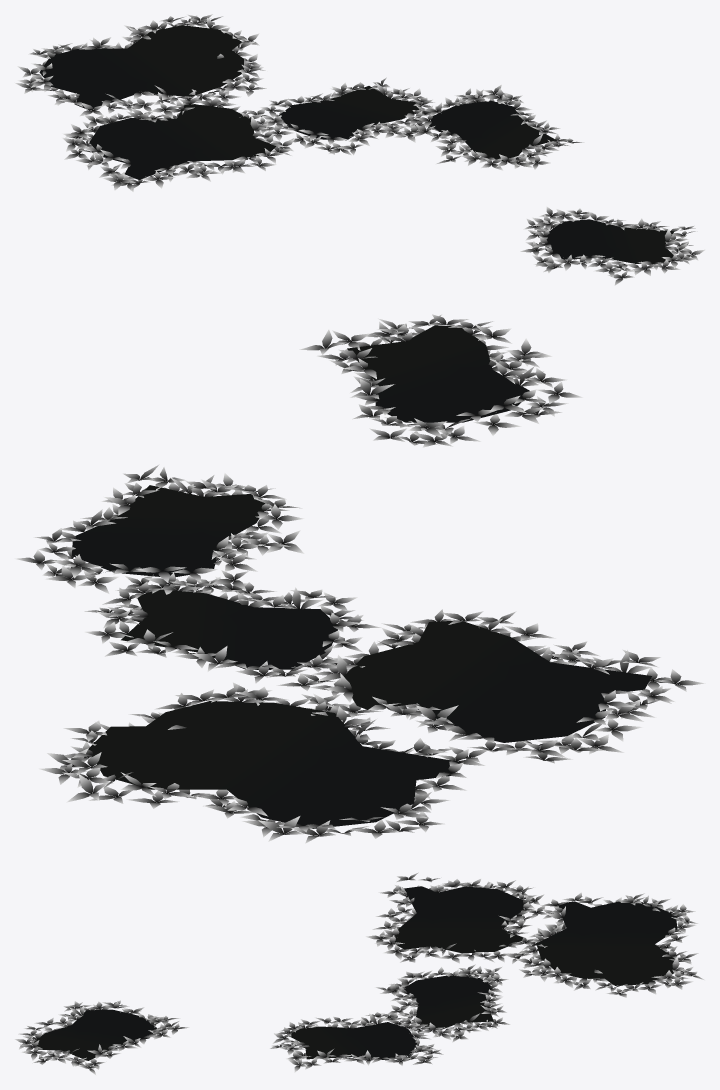
The model's file is SM_ENV_KNFRST_LeafShadow_GroupE.FBX.
3 renders of one model, top to bottom at view 1: azimuth 30°, elevation 25°; view 2: azimuth 150°, elevation 25°; view 3: azimuth 270°, elevation 25°, orthographic. The views are drawn at different scales.
Parts seen in each view (by area): view 1: SM_ENV_KNFRST_LeafShadow_GroupE; view 2: SM_ENV_KNFRST_LeafShadow_GroupE; view 3: SM_ENV_KNFRST_LeafShadow_GroupE.
Boxes of the visible parts, x1,y1,x2,y2 form: SM_ENV_KNFRST_LeafShadow_GroupE: (14,14,705,285); SM_ENV_KNFRST_LeafShadow_GroupE: (14,314,705,843); SM_ENV_KNFRST_LeafShadow_GroupE: (14,872,704,1075).
Size of the model in its own units: 1612 by 105 by 2542.
